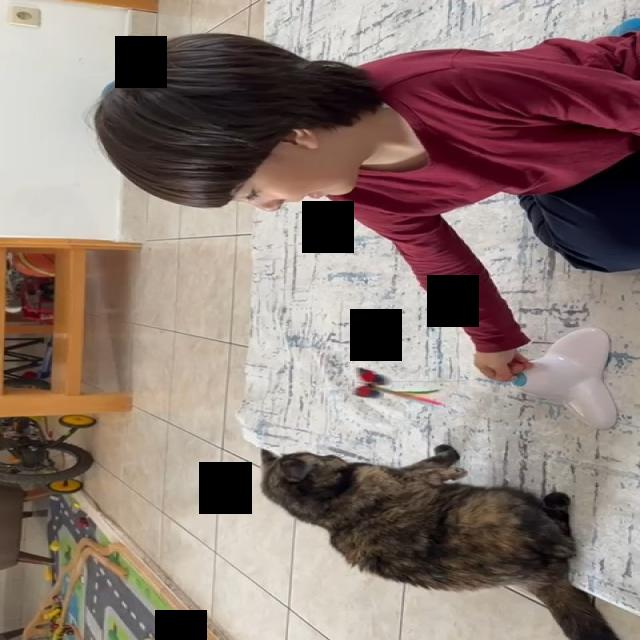authorized: (259, 443, 620, 639)
